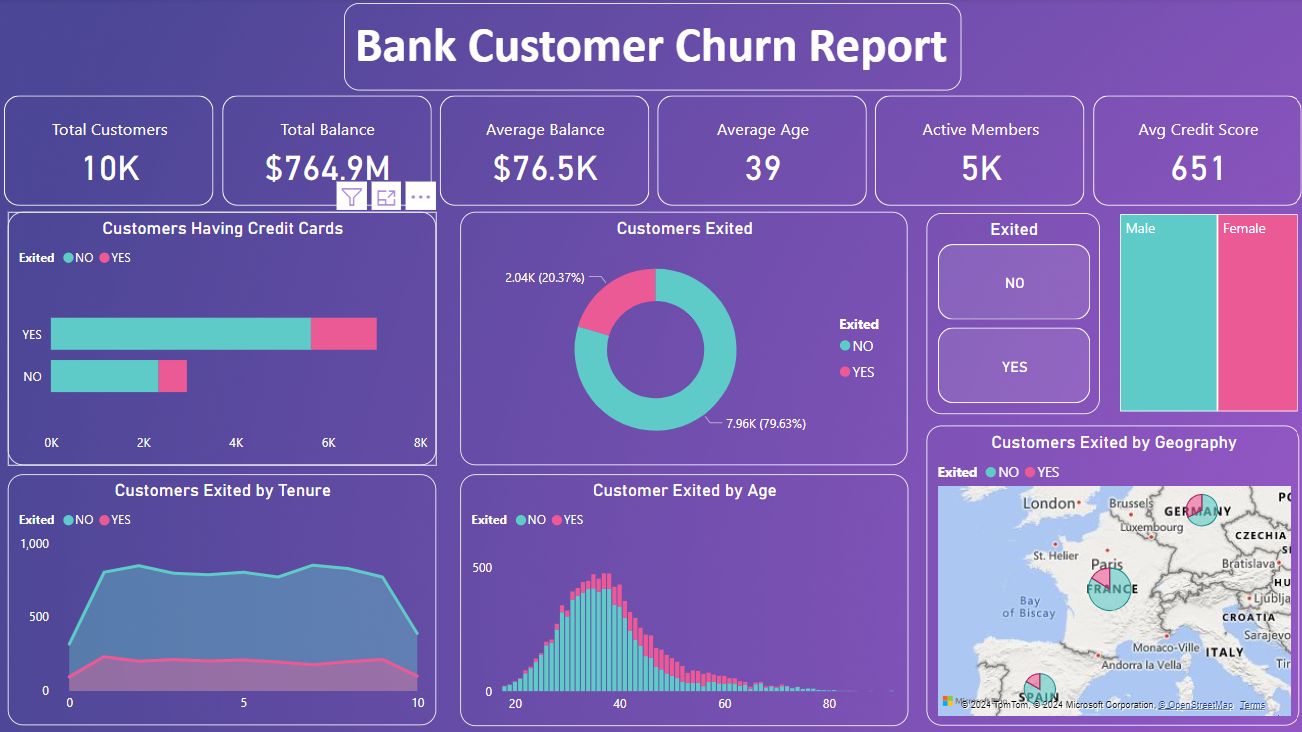

What the dashboard file says about the page in this screenshot:
{"tool":"powerbi","page":{"name":"Page 1","canvas":[1280,720],"ordinal":0},"visuals":[{"type":"cardVisual","fields":{"Data":["Churn_Modelling.Total Customers","Churn_Modelling.Total Balance","Churn_Modelling.Average Balance","Churn_Modelling.Average Age","Churn_Modelling.Total Active Members","Churn_Modelling.Average Credit Score"]},"box":[0,90.5,1280.3,118.6],"z":0},{"type":"treemap","fields":{"Group":["Churn_Modelling.Gender"],"Values":["CountNonNull(Churn_Modelling.CustomerId)"]},"box":[1094.4,209.1,178.5,196.9],"z":1},{"type":"barChart","title":"Customers Having Credit Cards","fields":{"Category":["Churn_Modelling.HasCrCard"],"Y":["CountNonNull(Churn_Modelling.CustomerId)"],"Series":["Churn_Modelling.Exited"]},"box":[8.6,209.1,419.4,248.2],"z":2},{"type":"map","title":"Customers Exited by Geography","fields":{"Size":["CountNonNull(Churn_Modelling.CustomerId)"],"Series":["Churn_Modelling.Exited"],"Category":["Churn_Modelling.Geography"]},"box":[907.3,418.2,365.6,293.5],"z":3},{"type":"donutChart","title":"Customers Exited","fields":{"Y":["CountNonNull(Churn_Modelling.CustomerId)"],"Category":["Churn_Modelling.Exited"]},"box":[451.2,209.1,437.8,248.2],"z":4},{"type":"areaChart","title":"Customers Exited by Tenure","fields":{"Category":["Churn_Modelling.Tenure"],"Series":["Churn_Modelling.Exited"],"Y":["CountNonNull(Churn_Modelling.CustomerId)"]},"box":[8.6,465.9,419.4,245.8],"z":5},{"type":"advancedSlicerVisual","fields":{"Values":["Churn_Modelling.Exited"]},"box":[907.3,210.3,170,196.9],"z":7},{"type":"columnChart","title":"Customer Exited by Age","fields":{"Series":["Churn_Modelling.Exited"],"Category":["Churn_Modelling.Age"],"Y":["CountNonNull(Churn_Modelling.CustomerId)"]},"box":[451,466,438,246],"z":8},{"type":"textbox","box":[337.5,4.9,604.1,85.6],"z":9}]}

Visuals, with their boxes in screenshot pixels (x1, y1, x2, y2), scaled from the page's 1280x720 canvas onto the 1302x732 screenshot:
cardVisual - Churn_Modelling.Total Customers x Churn_Modelling.Total Balance: 0:92:1301:213
treemap - Churn_Modelling.Gender x CountNonNull(Churn_Modelling.CustomerId): 1113:213:1295:413
"Customers Having Credit Cards" barChart: 9:213:435:465
"Customers Exited by Geography" map: 923:425:1295:724
"Customers Exited" donutChart: 459:213:904:465
"Customers Exited by Tenure" areaChart: 9:474:435:724
advancedSlicerVisual - Churn_Modelling.Exited: 923:214:1096:414
"Customer Exited by Age" columnChart: 459:474:904:724
textbox: 343:5:958:92
